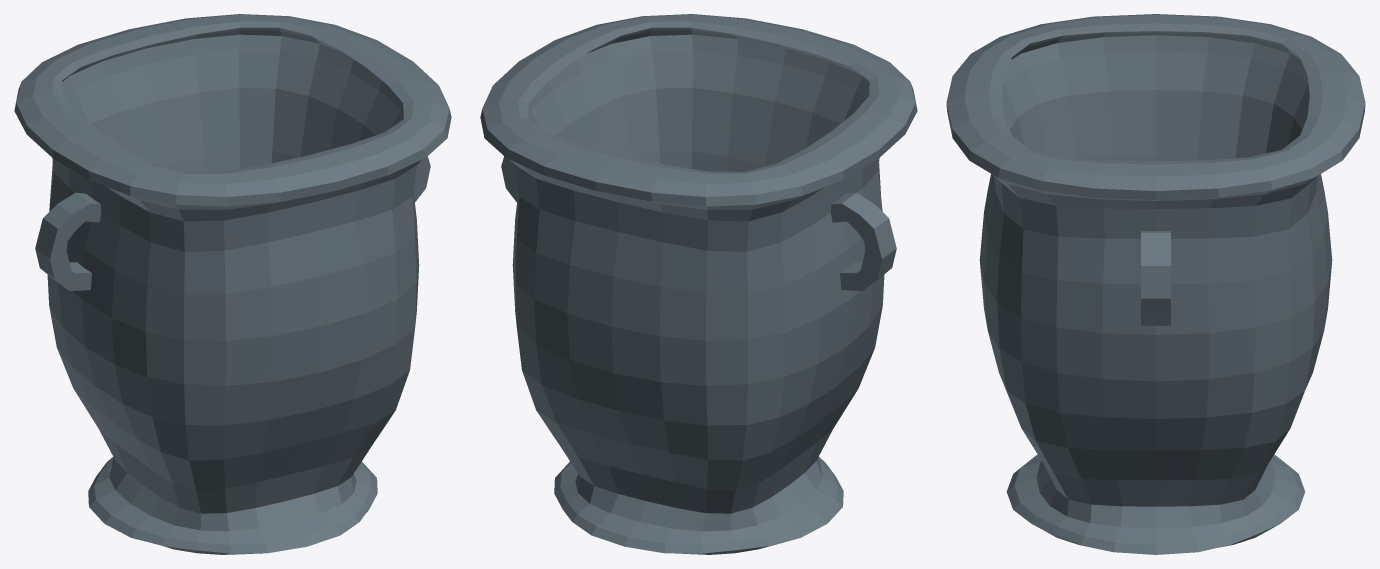
File: pot.fbx
The picture shows the model from 3 angles, left to right: view 1: azimuth 30°, elevation 25°; view 2: azimuth 150°, elevation 25°; view 3: azimuth 270°, elevation 25°; orthographic projection.
Parts seen in each view (by area): view 1: Cube.009, Cube.010; view 2: Cube.009, Cube.010; view 3: Cube.009, Cube.010.
Part boxes in pixels (x1,y1,x2,y2): Cube.009: [14, 14, 451, 554]; Cube.010: [35, 156, 430, 290]; Cube.009: [480, 14, 917, 554]; Cube.010: [501, 156, 896, 290]; Cube.009: [946, 14, 1365, 554]; Cube.010: [1141, 231, 1170, 325].
Bounding box in the file's own units: 93.28 × 94.19 × 88.33.
